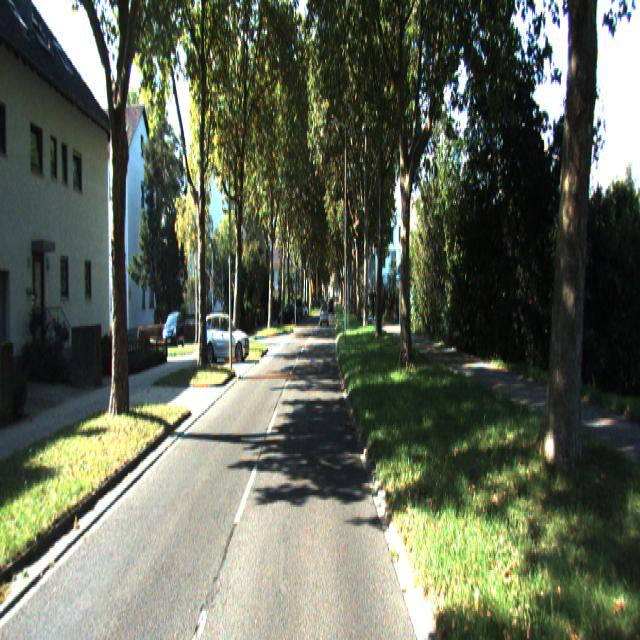Car: (199, 314, 251, 364)
